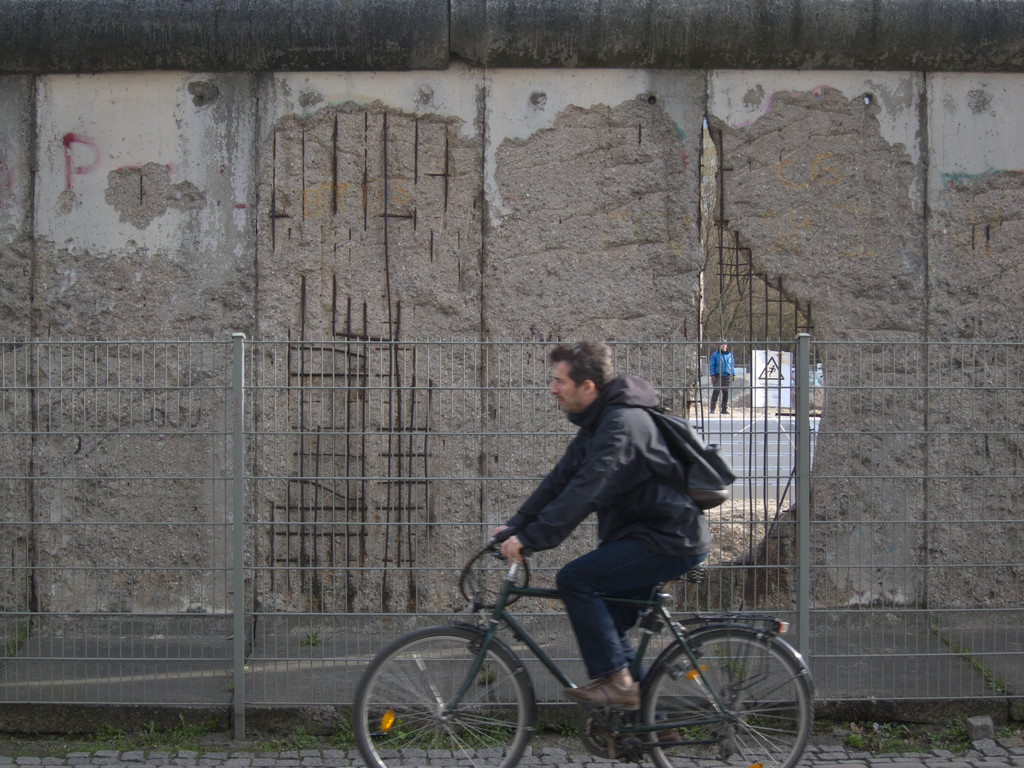Bike_toward: (336, 546, 829, 758)
